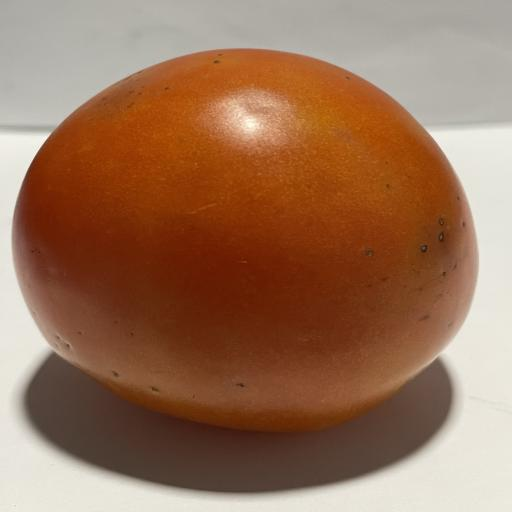ripe: (13, 49, 477, 431)
